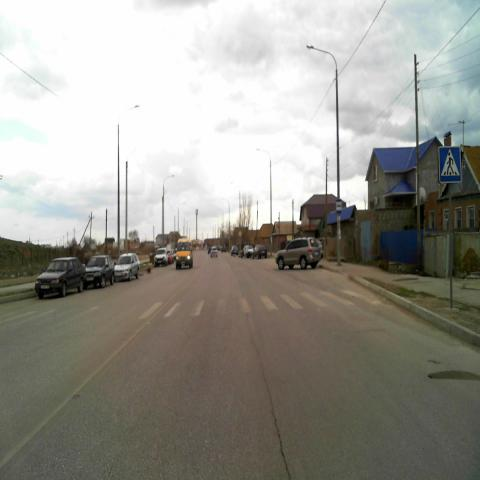5_16: (336, 199, 342, 215)
5_19_1: (439, 145, 461, 184)
